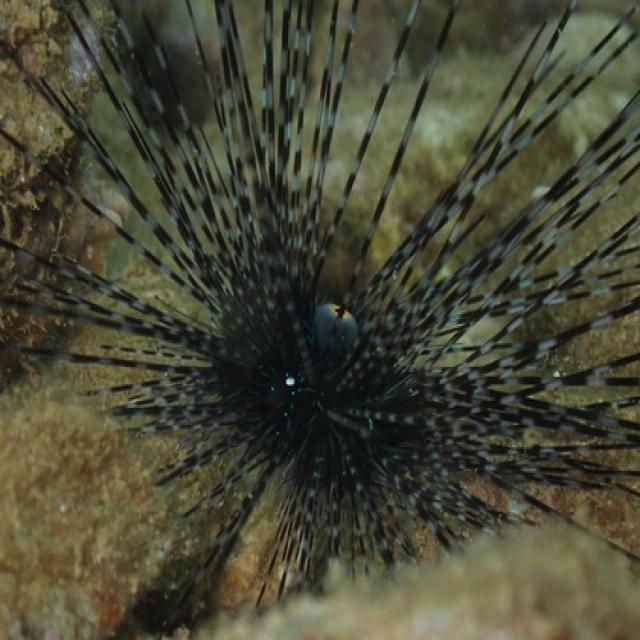Urchin: (36, 11, 632, 586)
